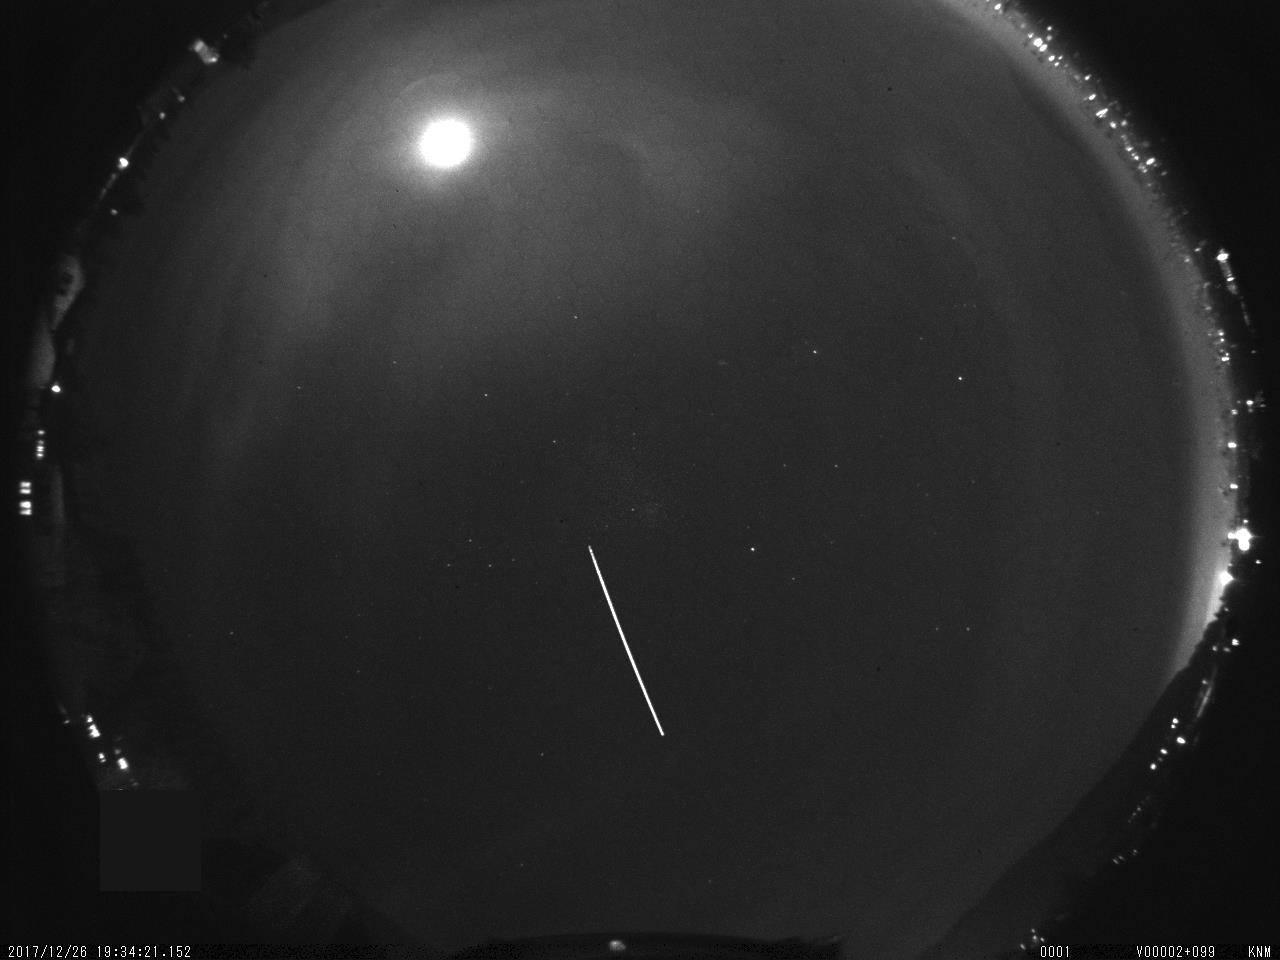meteor: (505, 505, 768, 759)
